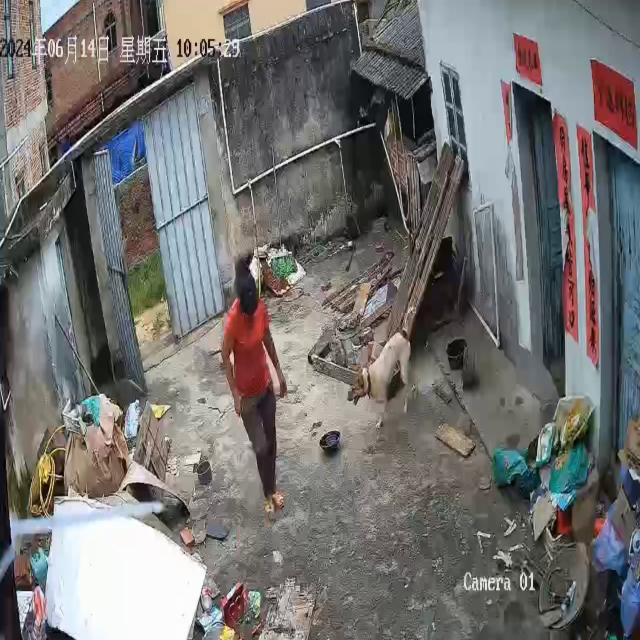dog: (352, 332, 412, 430)
